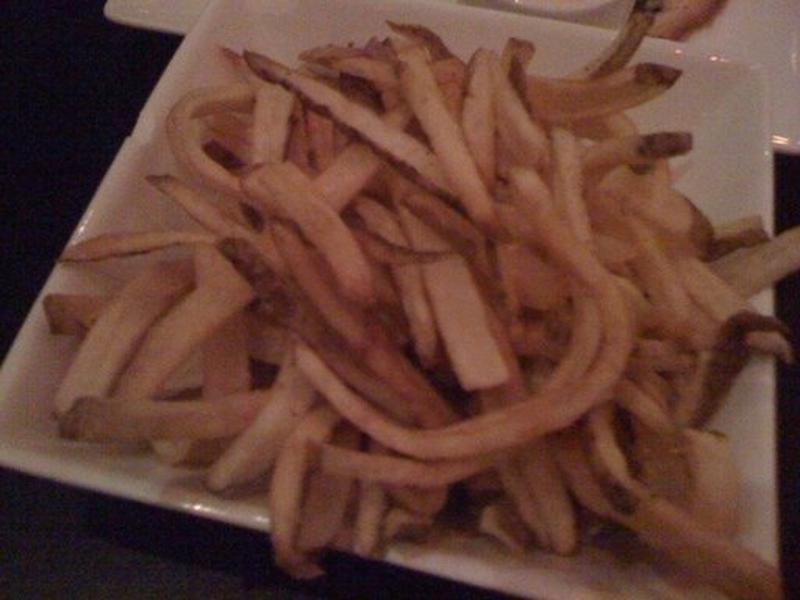french_fries: (128, 38, 761, 575)
